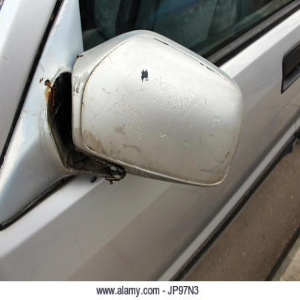side_mirror: (51, 29, 243, 190)
